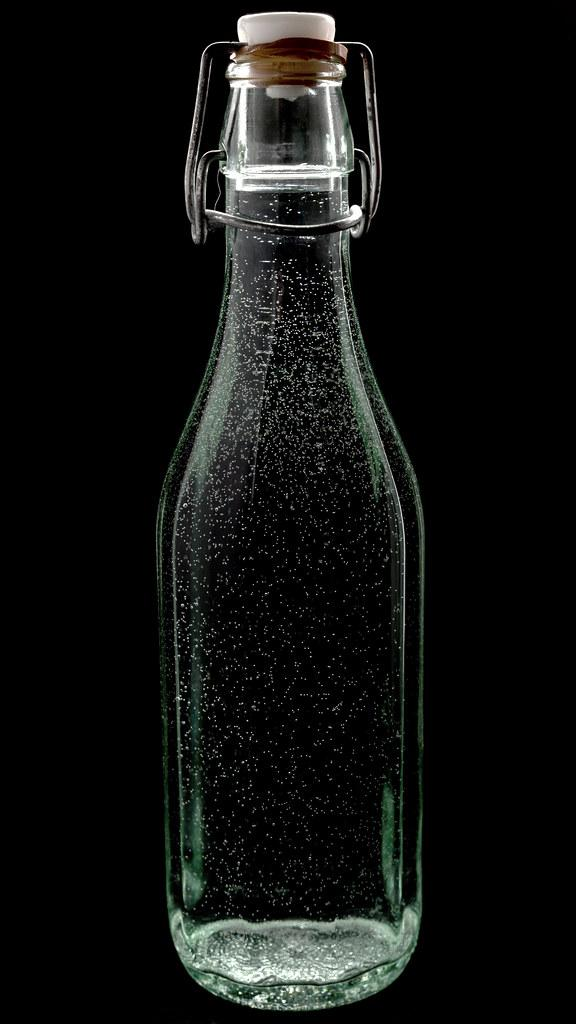bottle: (156, 11, 427, 1013)
